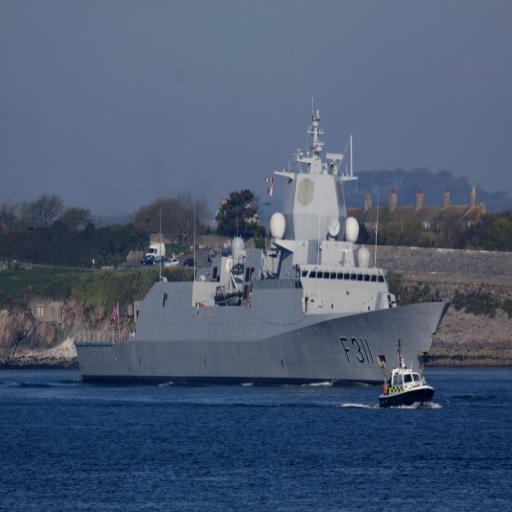Fragata: (73, 108, 459, 392)
